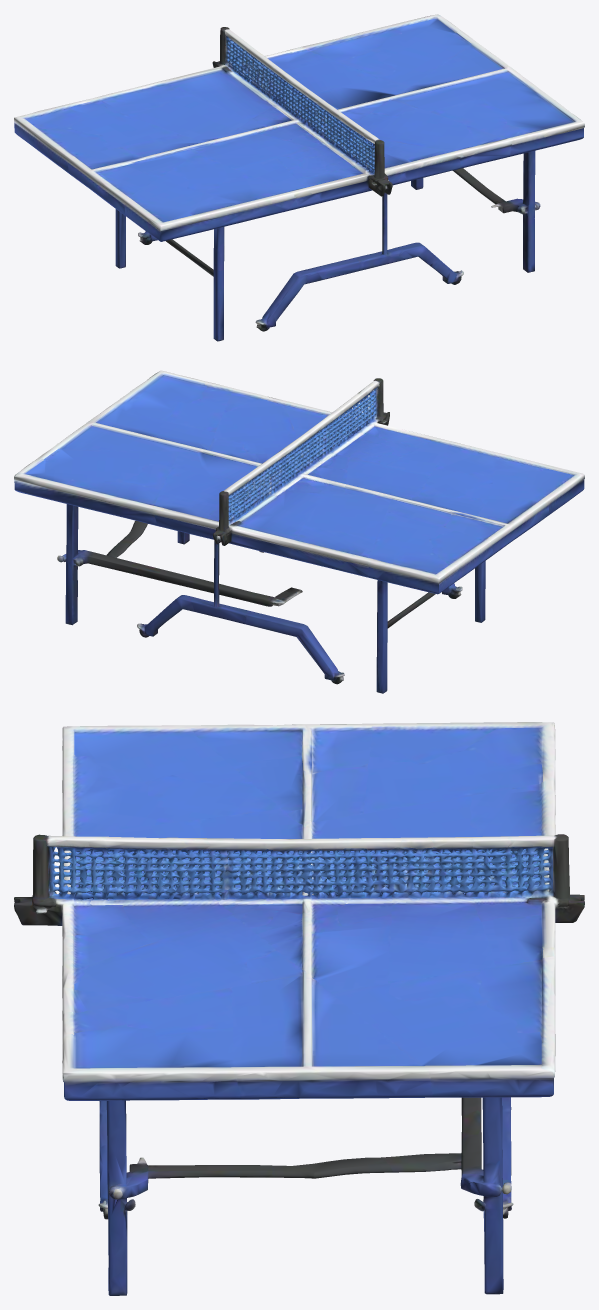
Rendered from pingpong-table.glb.
The picture shows the model from 3 angles, top to bottom: view 1: azimuth 30°, elevation 25°; view 2: azimuth 150°, elevation 25°; view 3: azimuth 270°, elevation 25°; orthographic projection. The views are drawn at different scales.
Visible parts, largest first — view 1: tripo_node_30c13e60-ad91-4e48-91fc-d808efbb98bd; view 2: tripo_node_30c13e60-ad91-4e48-91fc-d808efbb98bd; view 3: tripo_node_30c13e60-ad91-4e48-91fc-d808efbb98bd.
Boxes of the visible parts, left/top/right/bottom form: tripo_node_30c13e60-ad91-4e48-91fc-d808efbb98bd: left=14, top=14, right=584, bottom=341; tripo_node_30c13e60-ad91-4e48-91fc-d808efbb98bd: left=14, top=370, right=584, bottom=693; tripo_node_30c13e60-ad91-4e48-91fc-d808efbb98bd: left=14, top=722, right=584, bottom=1295.
Bounding box in the file's own units: 0.9999 × 0.4224 × 0.6915.
1 material, 1 textured.
